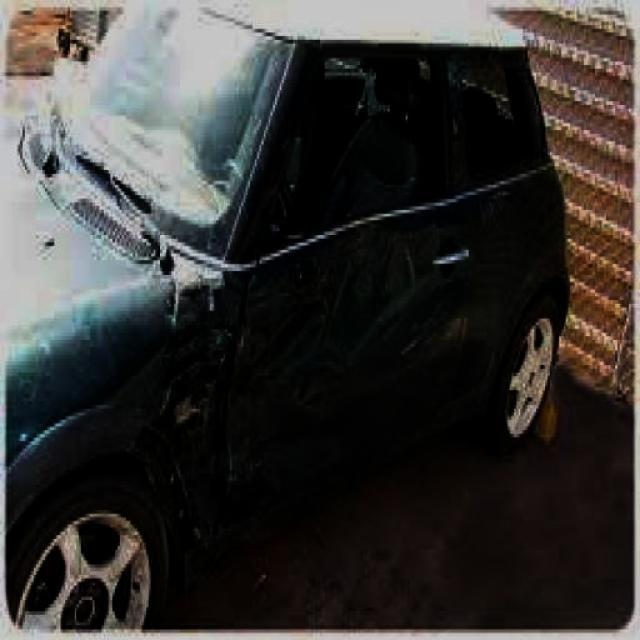car damage: (129, 211, 434, 580)
